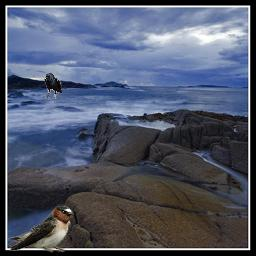Crow: (44, 73, 62, 99)
Swallow: (8, 204, 75, 253)
